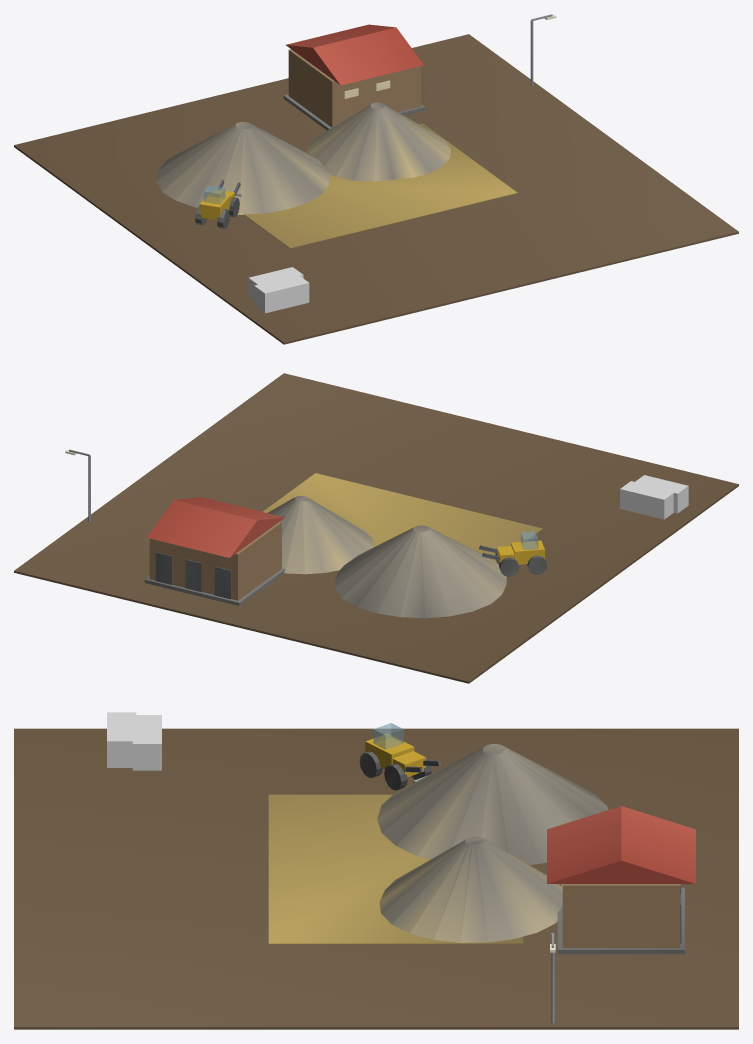
The model's file is Depot_P1.fbx.
3 views of the same model, one above another, from view 1: azimuth 30°, elevation 25°; view 2: azimuth 150°, elevation 25°; view 3: azimuth 270°, elevation 25° (orthographic). The views are drawn at different scales.
Parts seen in each view (by area): view 1: Depot.Yard, Depot.Shed1, Depot.Pile0, Depot.Pile1, Depot.Containers, Depot.Loader; view 2: Depot.Yard, Depot.Shed1, Depot.Pile0, Depot.Pile1, Depot.Containers, Depot.Loader; view 3: Depot.Yard, Depot.Shed1, Depot.Pile0, Depot.Pile1, Depot.Containers, Depot.Loader.
Boxes of the visible parts, x1,y1,x2,y2 form: Depot.Yard: (14, 34, 738, 344); Depot.Shed1: (283, 24, 425, 130); Depot.Pile0: (156, 122, 330, 214); Depot.Pile1: (307, 102, 450, 181); Depot.Containers: (248, 267, 309, 313); Depot.Loader: (195, 179, 241, 228); Depot.Yard: (14, 373, 738, 683); Depot.Shed1: (144, 497, 285, 605); Depot.Pile0: (334, 525, 506, 618); Depot.Pile1: (267, 496, 373, 574); Depot.Containers: (620, 475, 688, 519); Depot.Loader: (479, 531, 547, 576); Depot.Yard: (14, 728, 738, 1029); Depot.Shed1: (547, 806, 695, 954); Depot.Pile0: (377, 744, 608, 864); Depot.Pile1: (379, 836, 562, 942); Depot.Containers: (107, 712, 161, 770); Depot.Loader: (359, 723, 441, 790).
Bounding box in the file's own units: 7469 × 1045 × 7400.
